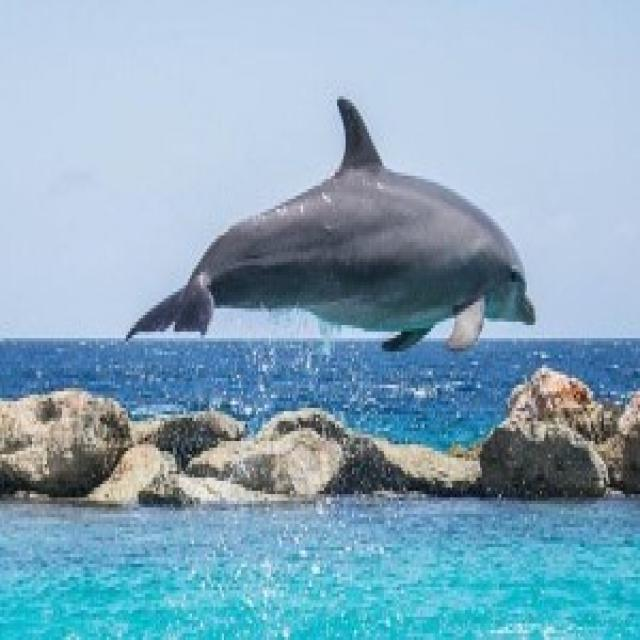Dolphin: (118, 99, 548, 348)
